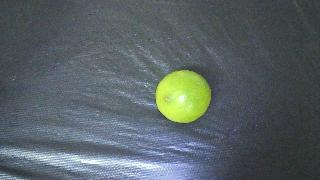LOCAL: (155, 70, 211, 123)
